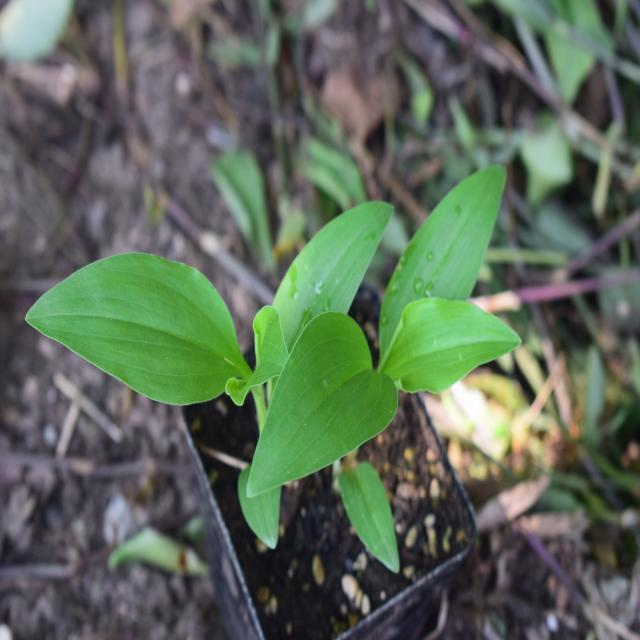Common Dayflower: (51, 186, 519, 510)
